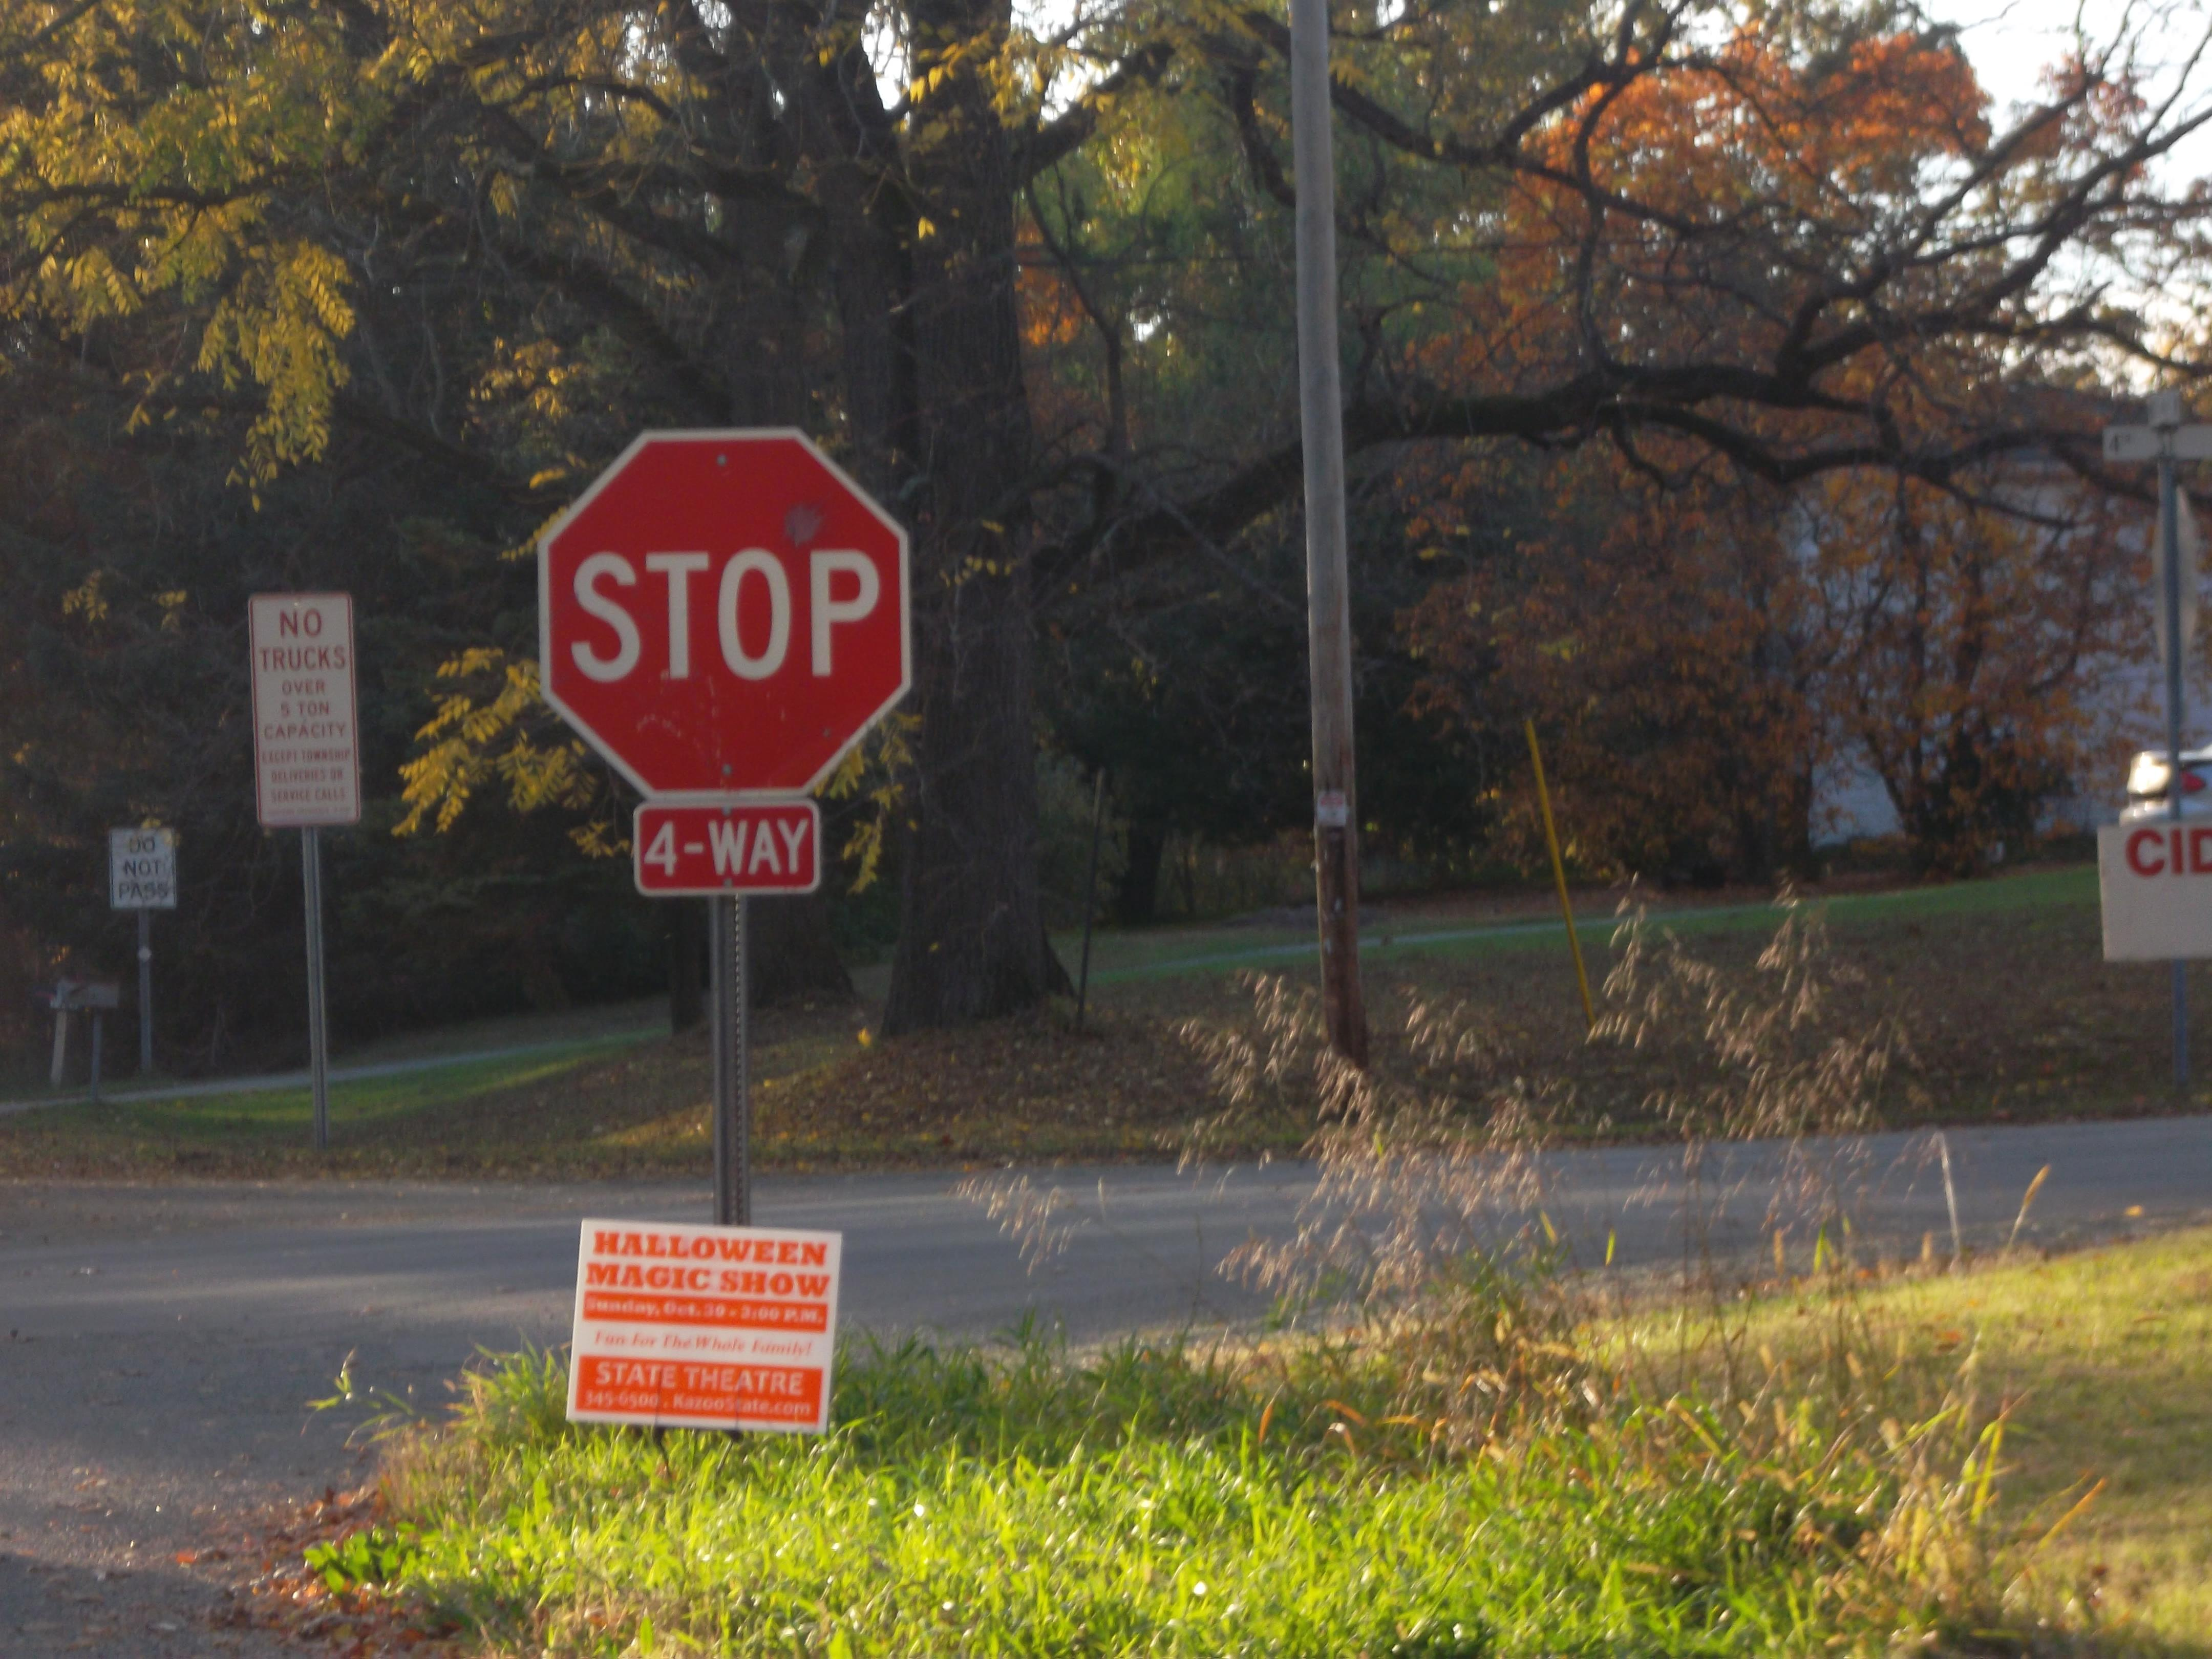regulatory: (246, 589, 366, 829), (108, 826, 178, 913)
stop: (524, 406, 925, 810)
